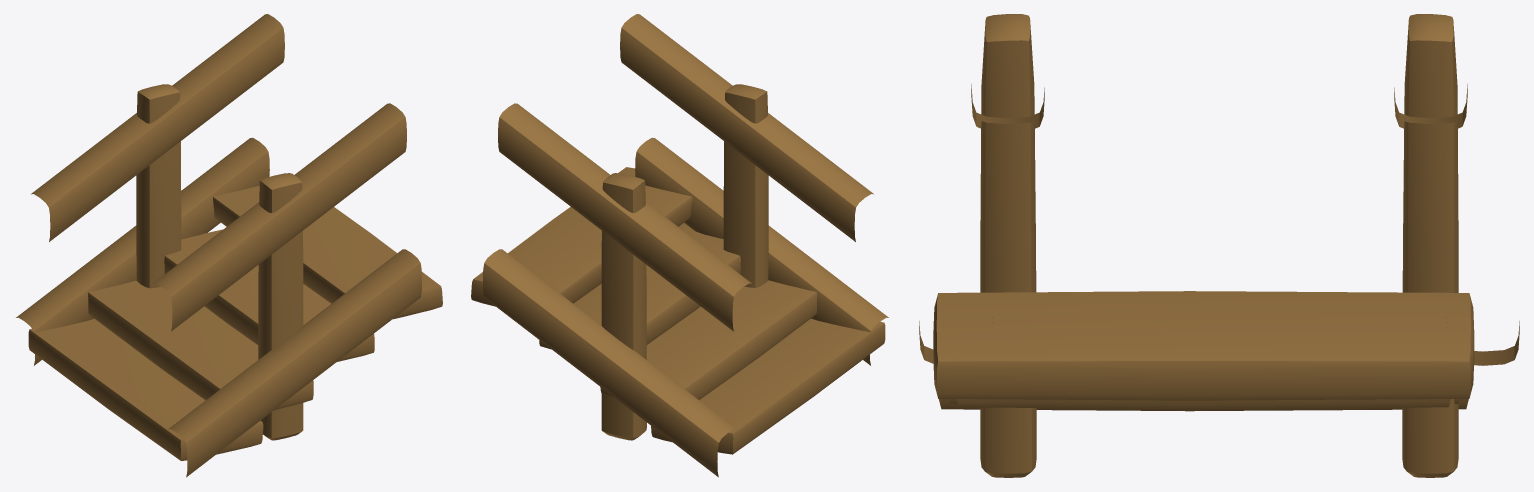
File: quaternius-platformer-game-pack-stairs-modular-middle.glb
3 renders of one model, left to right at view 1: azimuth 30°, elevation 25°; view 2: azimuth 150°, elevation 25°; view 3: azimuth 270°, elevation 25°, orthographic. The views are drawn at different scales.
Parts seen in each view (by area): view 1: Stairs_Modular_Middle; view 2: Stairs_Modular_Middle; view 3: Stairs_Modular_Middle.
Boxes of the visible parts, x1,y1,x2,y2 form: Stairs_Modular_Middle: (16,14,442,477); Stairs_Modular_Middle: (471,14,888,477); Stairs_Modular_Middle: (919,14,1519,477).
Size of the model in its own units: 2.26 by 2.43 by 2.56.
